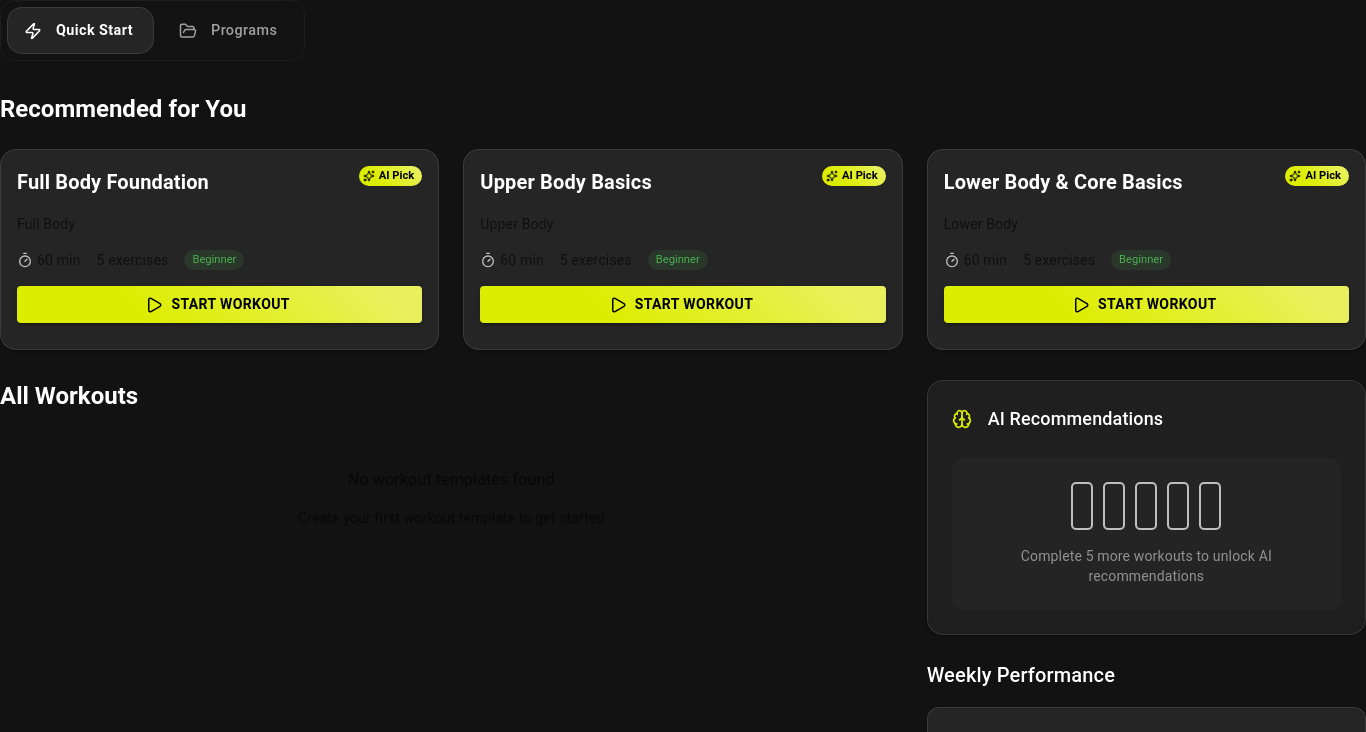
Test: WorkoutsTab starter recommendations › opens the preview dialog instead of navigating immediately for starter cards
Click the heading "Full Body Foundation" at (113, 182), box [17, 166, 209, 198]
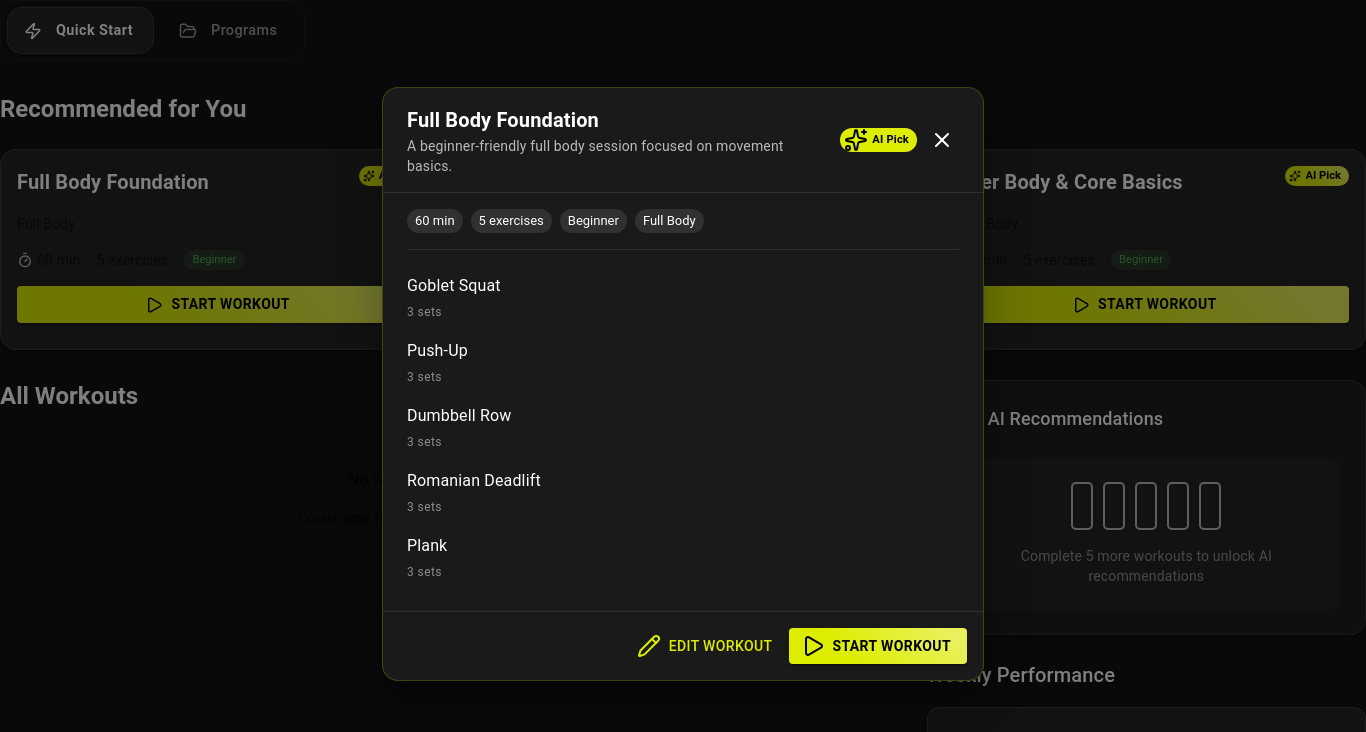
Expected: the button "Start Workout" is shown, [788, 628, 967, 664]
